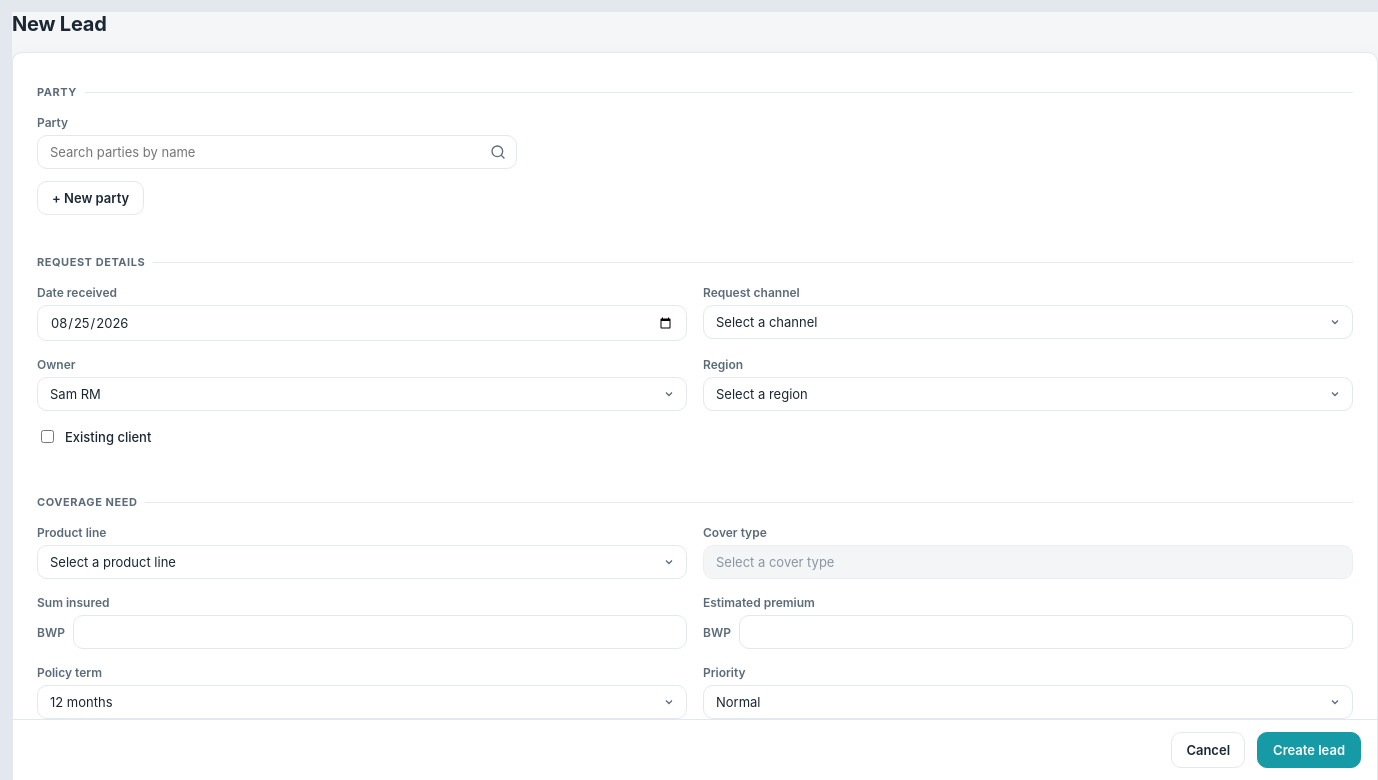
Test: LeadFormPage › selectPolicyTermOther_ShouldRevealRequiredCompanionInput
The image size is (1378, 780).
Select "Other" in the dropdown labelled "Policy term" at (362, 702), box [37,685,687,719]
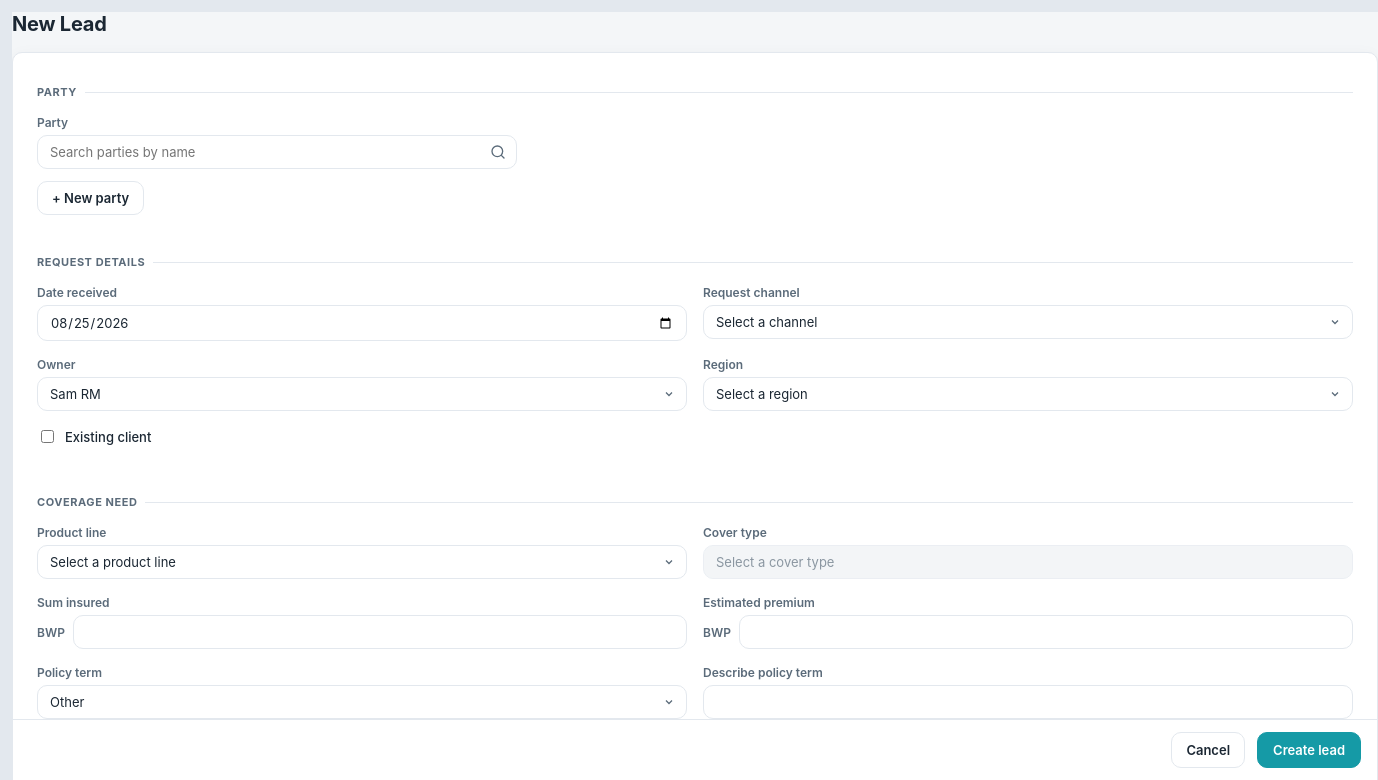
Check: the field labelled "Describe policy term" is shown, box [703,685,1353,719]
